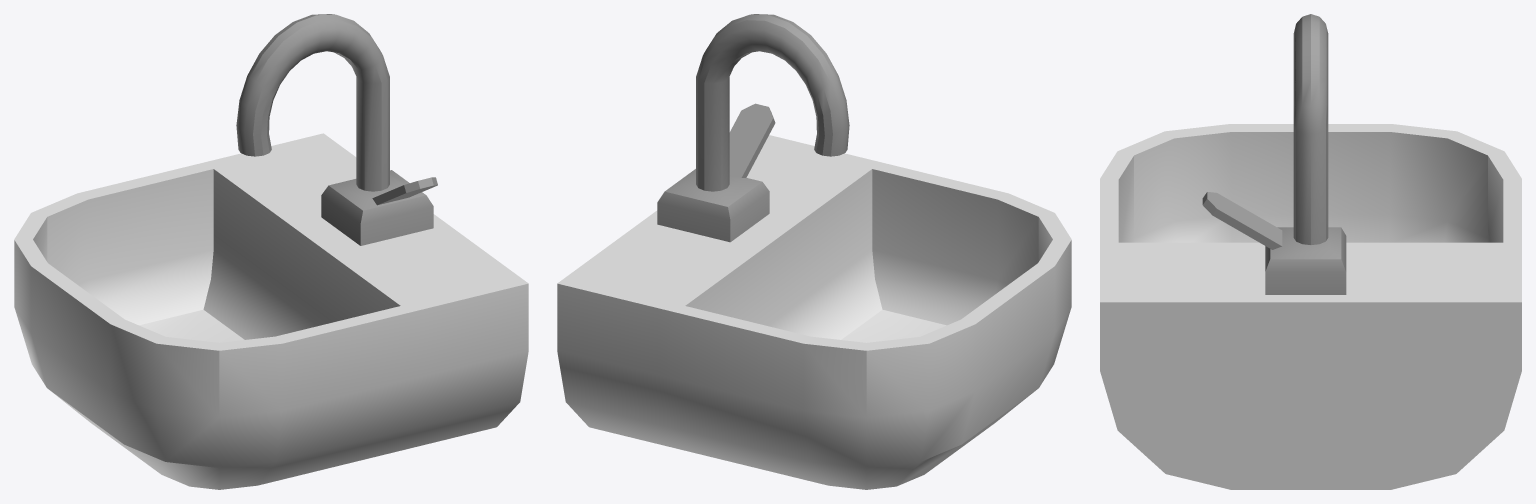
Rendered from Lavobo.fbx.
3 renders of one model, left to right at view 1: azimuth 30°, elevation 25°; view 2: azimuth 150°, elevation 25°; view 3: azimuth 270°, elevation 25°, orthographic. The views are drawn at different scales.
Parts seen in each view (by area): view 1: Cube.001; view 2: Cube.001; view 3: Cube.001.
Part boxes in pixels (box(x1,y1,x2,y2)): Cube.001: box(14, 14, 528, 489); Cube.001: box(557, 14, 1071, 489); Cube.001: box(1100, 14, 1521, 489).
Size of the model in its own units: 111 by 121 by 111.
